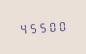five: (28, 21, 37, 34), (38, 20, 47, 33)
four: (18, 21, 27, 35)
zero: (58, 18, 67, 32), (48, 19, 57, 32)
